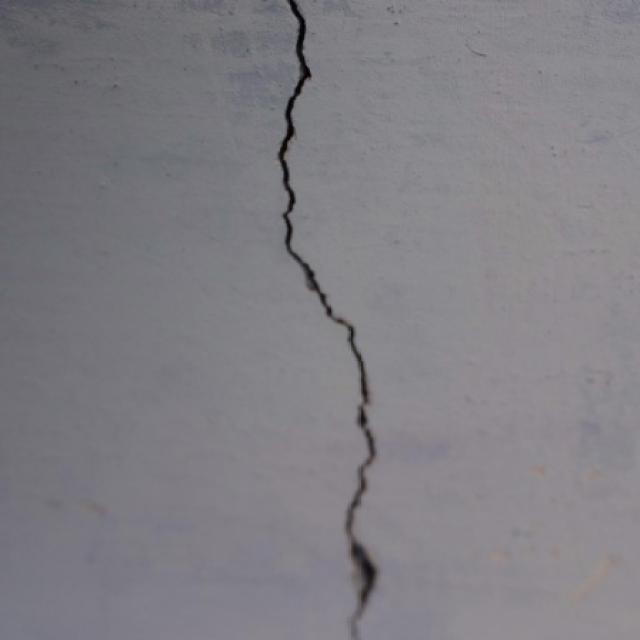vertical crack: (269, 8, 386, 631)
